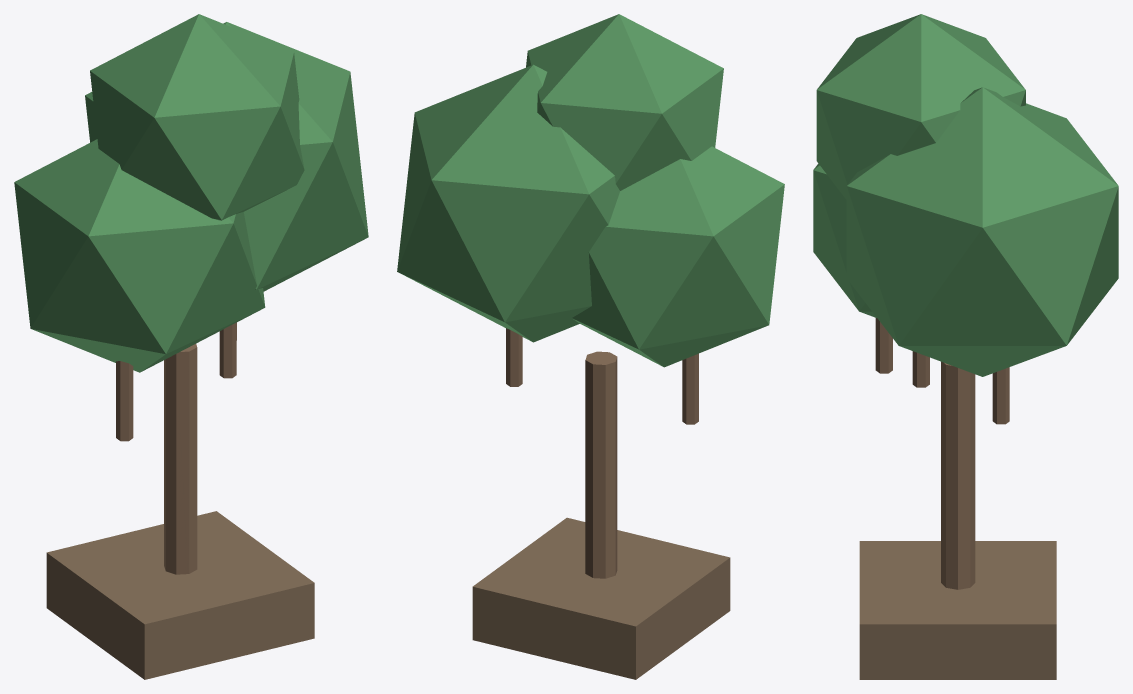
Rendered from bt-fh6-tree.glb.
The picture shows the model from 3 angles, left to right: view 1: azimuth 30°, elevation 25°; view 2: azimuth 150°, elevation 25°; view 3: azimuth 270°, elevation 25°; orthographic projection. The views are drawn at different scales.
Visible parts, largest first — view 1: bt-fh6-tree_leaf0, bt-fh6-tree_leaf2, bt-fh6-tree_dirt, bt-fh6-tree_leaf1, bt-fh6-tree_trunk, bt-fh6-tree_br0, bt-fh6-tree_br2; view 2: bt-fh6-tree_leaf1, bt-fh6-tree_leaf0, bt-fh6-tree_dirt, bt-fh6-tree_leaf2, bt-fh6-tree_trunk, bt-fh6-tree_br0, bt-fh6-tree_br1; view 3: bt-fh6-tree_leaf1, bt-fh6-tree_dirt, bt-fh6-tree_leaf2, bt-fh6-tree_trunk, bt-fh6-tree_leaf0, bt-fh6-tree_br1, bt-fh6-tree_br2, bt-fh6-tree_br0.
Boxes of the visible parts, x1,y1,x2,y2 form: bt-fh6-tree_leaf0: (14, 139, 265, 372); bt-fh6-tree_leaf2: (90, 14, 304, 220); bt-fh6-tree_dirt: (46, 511, 314, 679); bt-fh6-tree_leaf1: (85, 22, 368, 291); bt-fh6-tree_trunk: (164, 344, 197, 574); bt-fh6-tree_br0: (116, 361, 133, 441); bt-fh6-tree_br2: (219, 322, 236, 378); bt-fh6-tree_leaf1: (397, 64, 619, 342); bt-fh6-tree_leaf0: (572, 146, 784, 367); bt-fh6-tree_dirt: (472, 517, 730, 679); bt-fh6-tree_leaf2: (526, 14, 723, 190); bt-fh6-tree_trunk: (585, 351, 617, 578); bt-fh6-tree_br0: (682, 353, 698, 424); bt-fh6-tree_br1: (506, 328, 522, 386); bt-fh6-tree_leaf1: (846, 87, 1118, 376); bt-fh6-tree_dirt: (859, 541, 1056, 679); bt-fh6-tree_leaf2: (816, 14, 1025, 199); bt-fh6-tree_trunk: (941, 361, 975, 589); bt-fh6-tree_leaf0: (813, 163, 876, 317); bt-fh6-tree_br1: (992, 367, 1009, 424); bt-fh6-tree_br2: (875, 318, 892, 373); bt-fh6-tree_br0: (912, 351, 929, 387).
Bounding box in the file's own units: 3.24 × 5.6 × 2.48.
